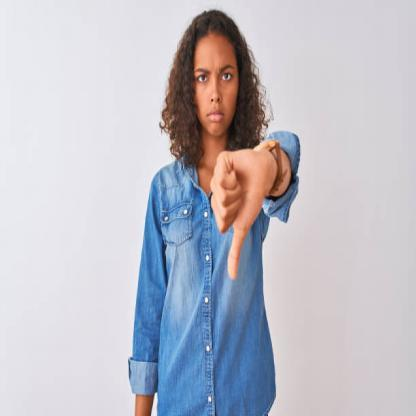thumb_down: (207, 140, 271, 284)
